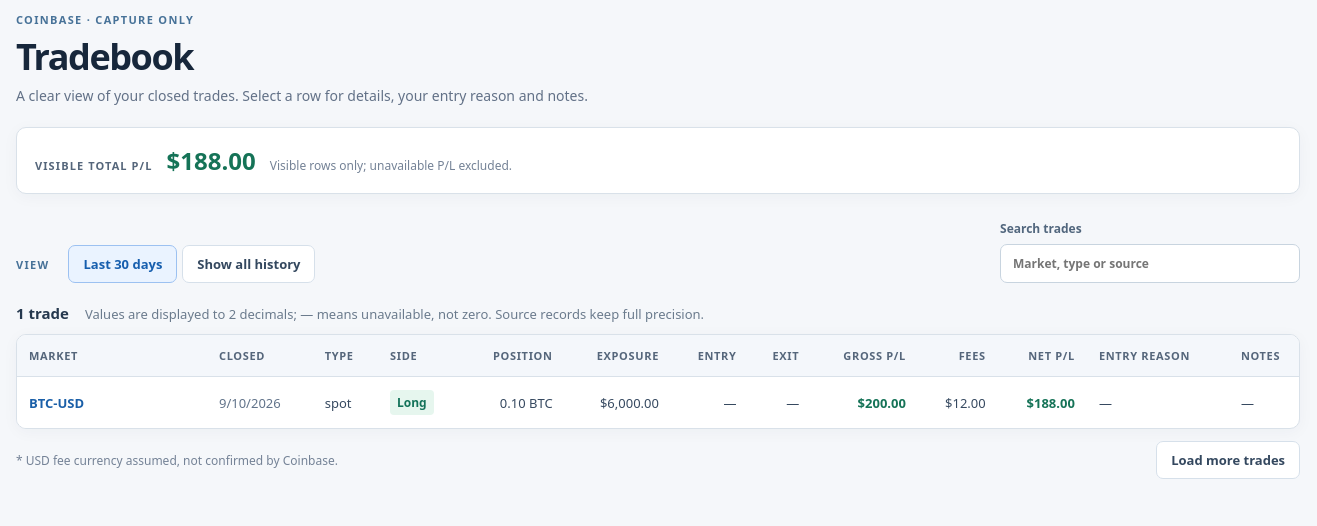
it: loads older history rather than silently hiding it
Click the button "Load more trades" at (1228, 460), box [1156,441,1300,479]
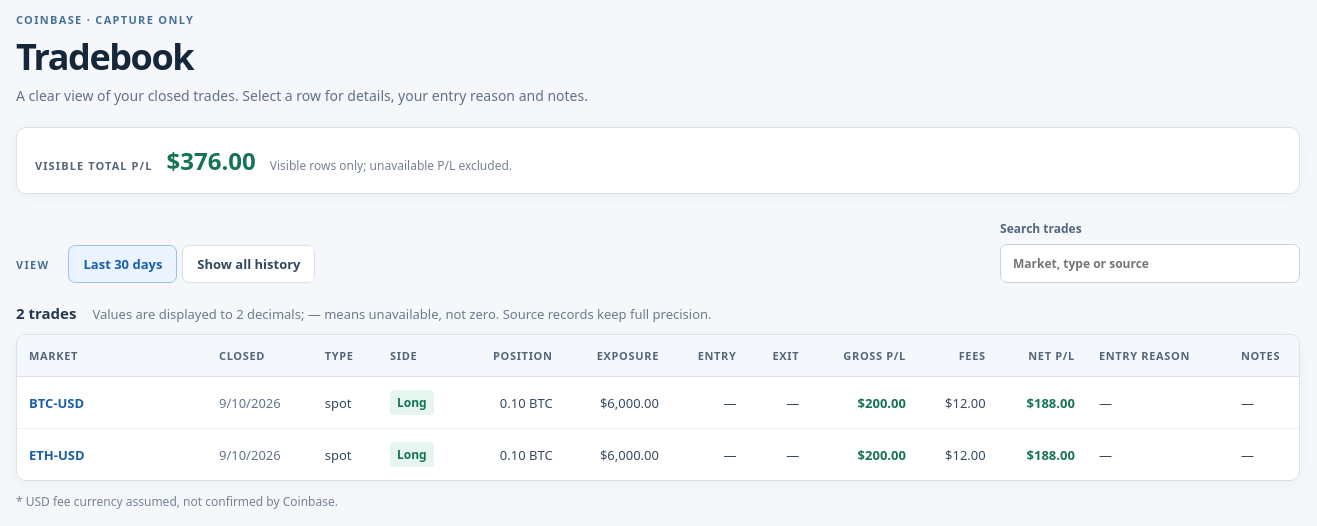
Expected: the button "ETH-USD" is shown, [29,446,85,464]
